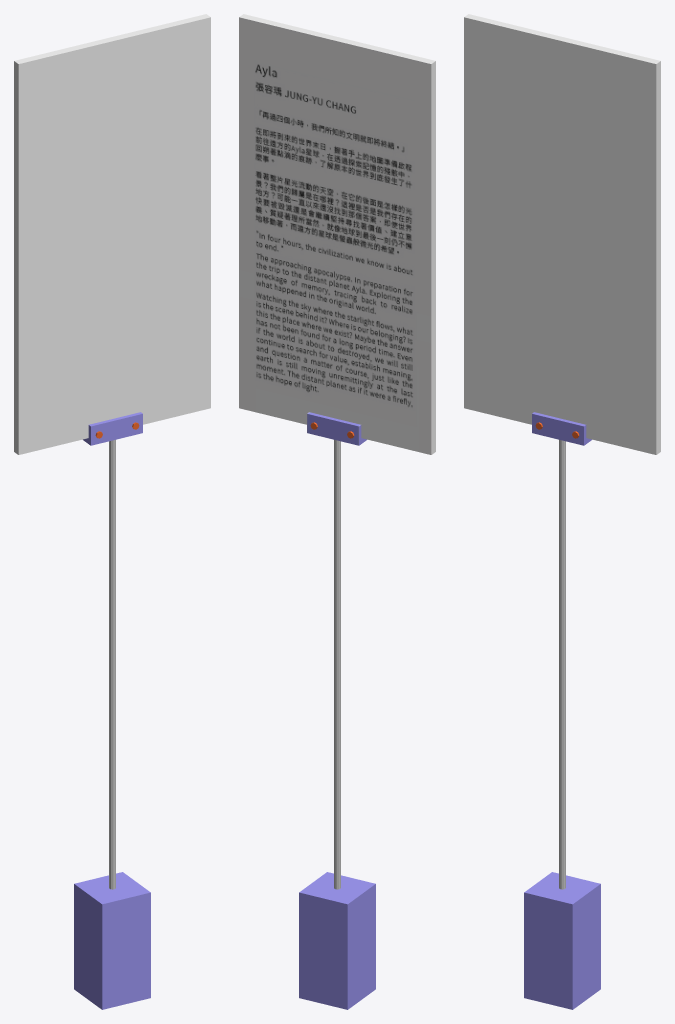
File: work_sign16_long.fbx
3 renders of one model, left to right at view 1: azimuth 30°, elevation 25°; view 2: azimuth 150°, elevation 25°; view 3: azimuth 330°, elevation 25°, orthographic.
Visible parts, largest first — view 1: work_detail_16, work_sign; view 2: work_detail_16, work_sign; view 3: work_detail_16, work_sign.
Part boxes in pixels (x1,y1,x2,y2): work_detail_16: (14,14,210,454); work_sign: (74,412,150,1009); work_detail_16: (239,14,435,454); work_sign: (299,412,375,1009); work_detail_16: (464,14,660,454); work_sign: (524,412,600,1009).
Size of the model in its own units: 42.19 by 200 by 10.67.
1 material, 1 textured.
